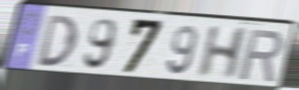7: (122, 17, 166, 76)
9: (82, 17, 119, 71), (165, 24, 198, 77)
D: (35, 14, 79, 69)
H: (195, 25, 251, 81)
R: (236, 27, 285, 84)
